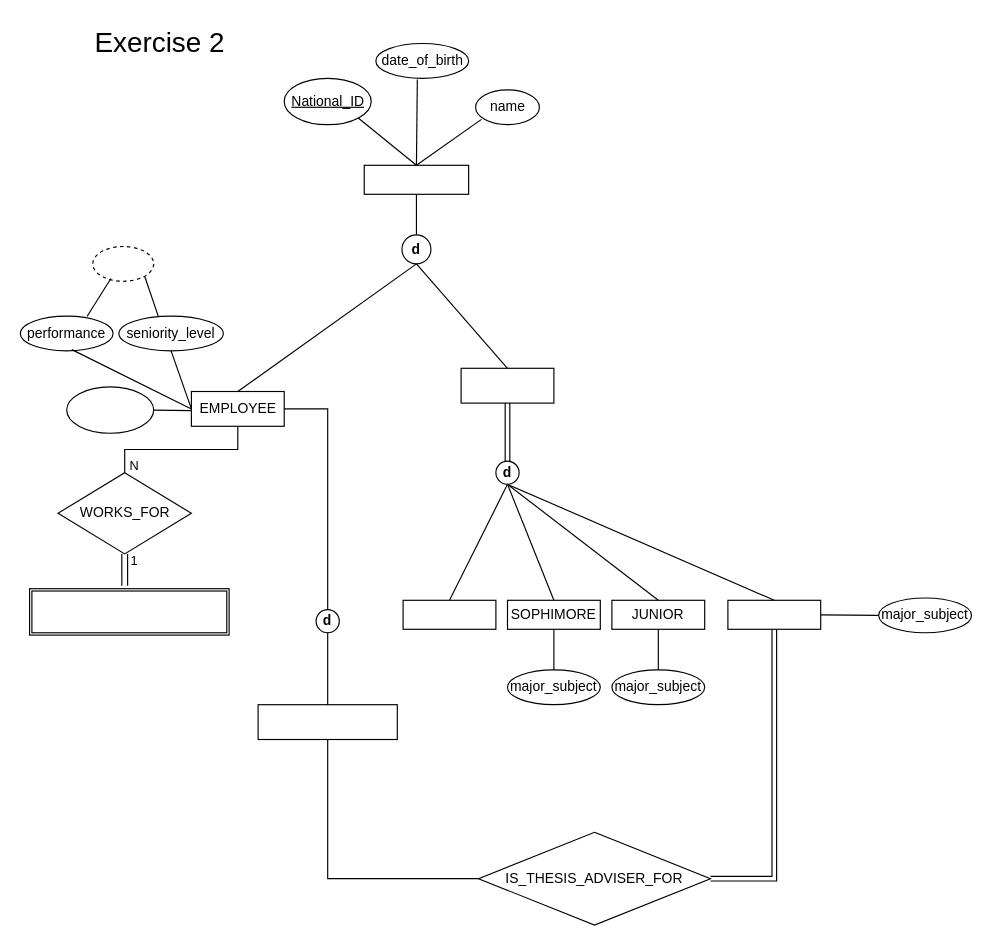
Some shapes in this 992 by 945 pixel diagram are drawn without their labels. Each missing label, with the centre of its shape:
"background" belongs at point (110, 409).
"COMPANY_DEPARTMENT" belongs at point (128, 611).
"FRESHMAN" belongs at point (449, 614).
"PERSON" belongs at point (416, 179).
"salary" belongs at point (123, 263).
"SENIOR" belongs at point (774, 614).
"STUDENT" belongs at point (507, 385).
"THESIS_ADVISOR" belongs at point (327, 722).
